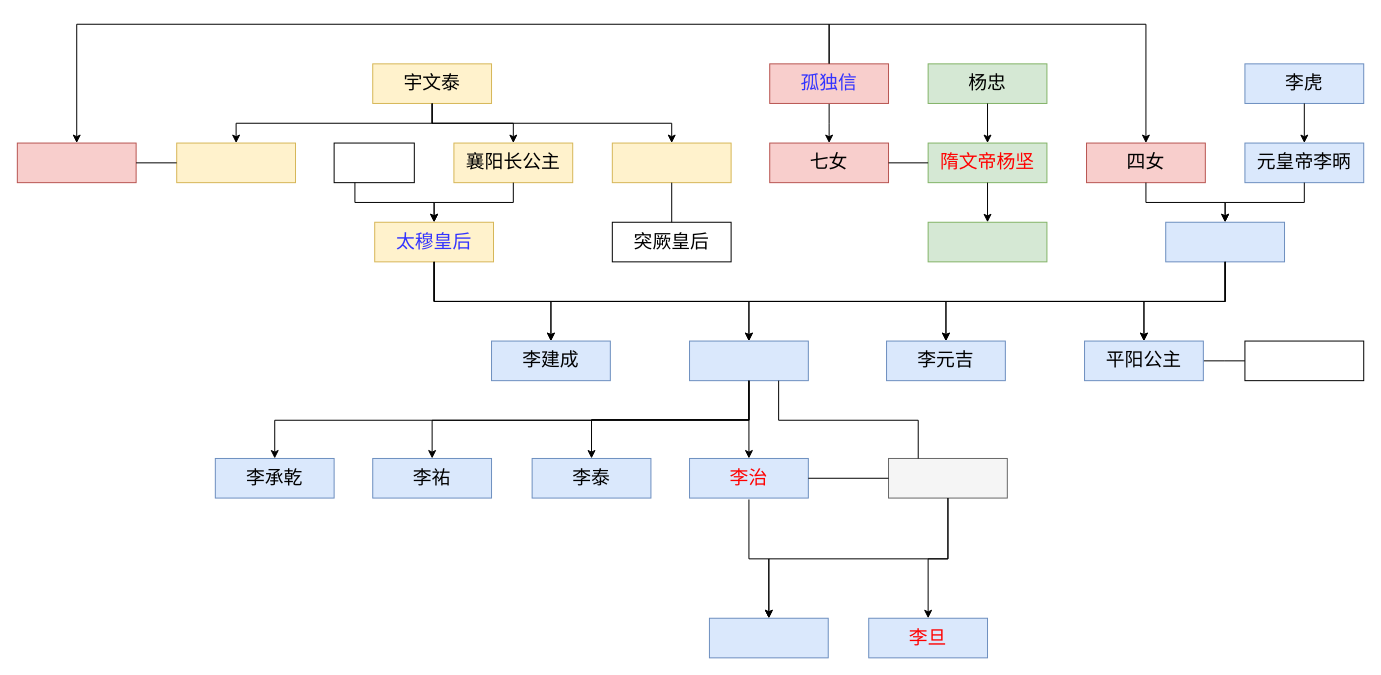
The diagram is 1381 pixels wide and 675 high, and some of its shapes have lost their labels. Each missing label, with the centre of its shape:
北周明帝宇文毓: the point at 236,162
宇文邕: the point at 671,162
李世民: the point at 748,360
李显: the point at 768,637
李渊: the point at 1225,241
柴绍: the point at 1304,360
武则天: the point at 947,477
窦毅: the point at 373,162
长女: the point at 76,162
隋炀帝杨广: the point at 987,241
